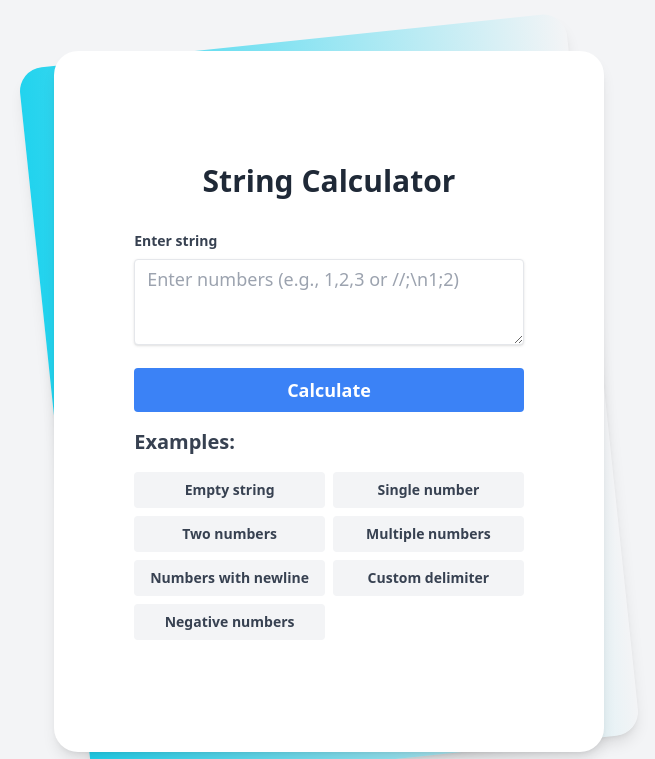
App › handles successful calculation
Type "1,2,3" into the text box with test id "input" at (329, 302), box [134, 259, 524, 344]
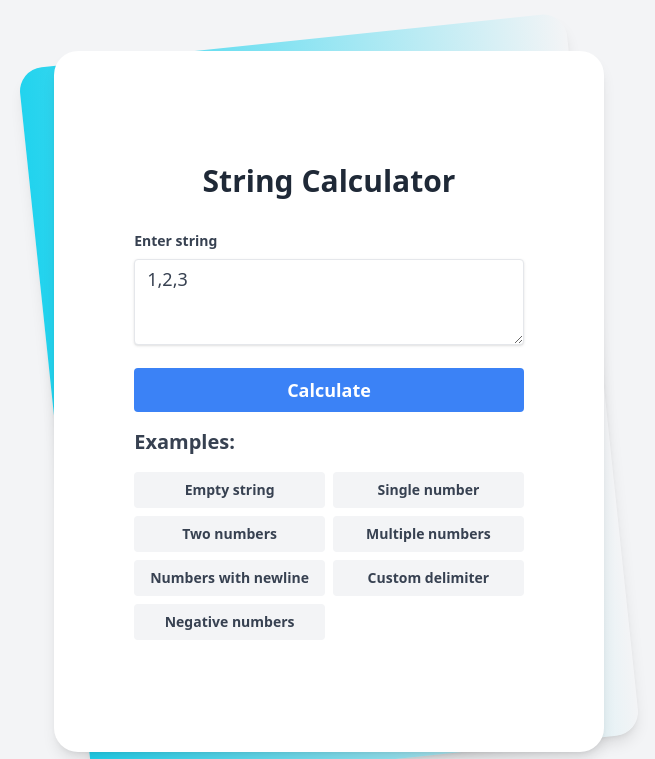
Click the button with test id "calculate-btn" at (329, 390), box [134, 368, 524, 412]
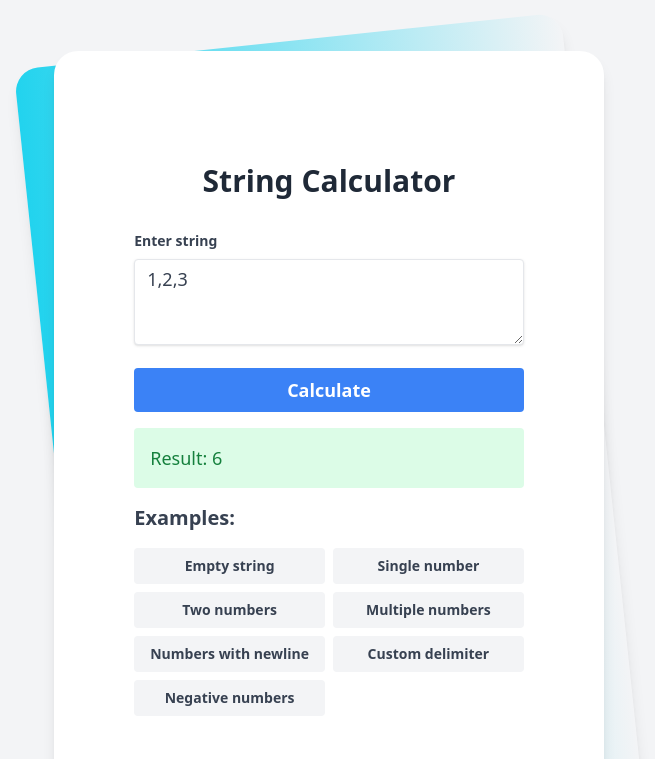
Now the text with test id "result" reads "Result: 6", box [150, 446, 222, 470]
